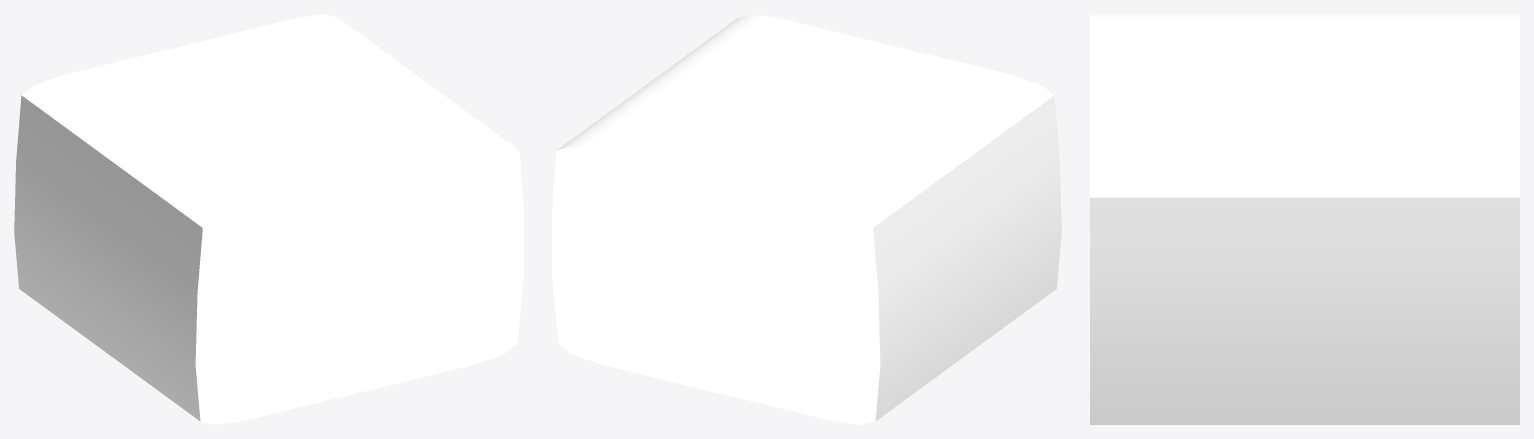
Rendered from 0d43f57d-df46-448d-adaf-7487a14d8392.glb.
3 views of the same model, side by side, from view 1: azimuth 30°, elevation 25°; view 2: azimuth 150°, elevation 25°; view 3: azimuth 270°, elevation 25° (orthographic). The views are drawn at different scales.
Parts seen in each view (by area): view 1: -_Zyzol_White; view 2: -_Zyzol_White; view 3: -_Zyzol_White.
Boxes of the visible parts, box(x1,y1,x2,y2) form: -_Zyzol_White: box(14, 14, 523, 424); -_Zyzol_White: box(552, 14, 1061, 424); -_Zyzol_White: box(1090, 14, 1519, 424).
Size of what is drawn, in the model's own units: 0.047 by 0.0291 by 0.045.
2 materials, 2 textured.
